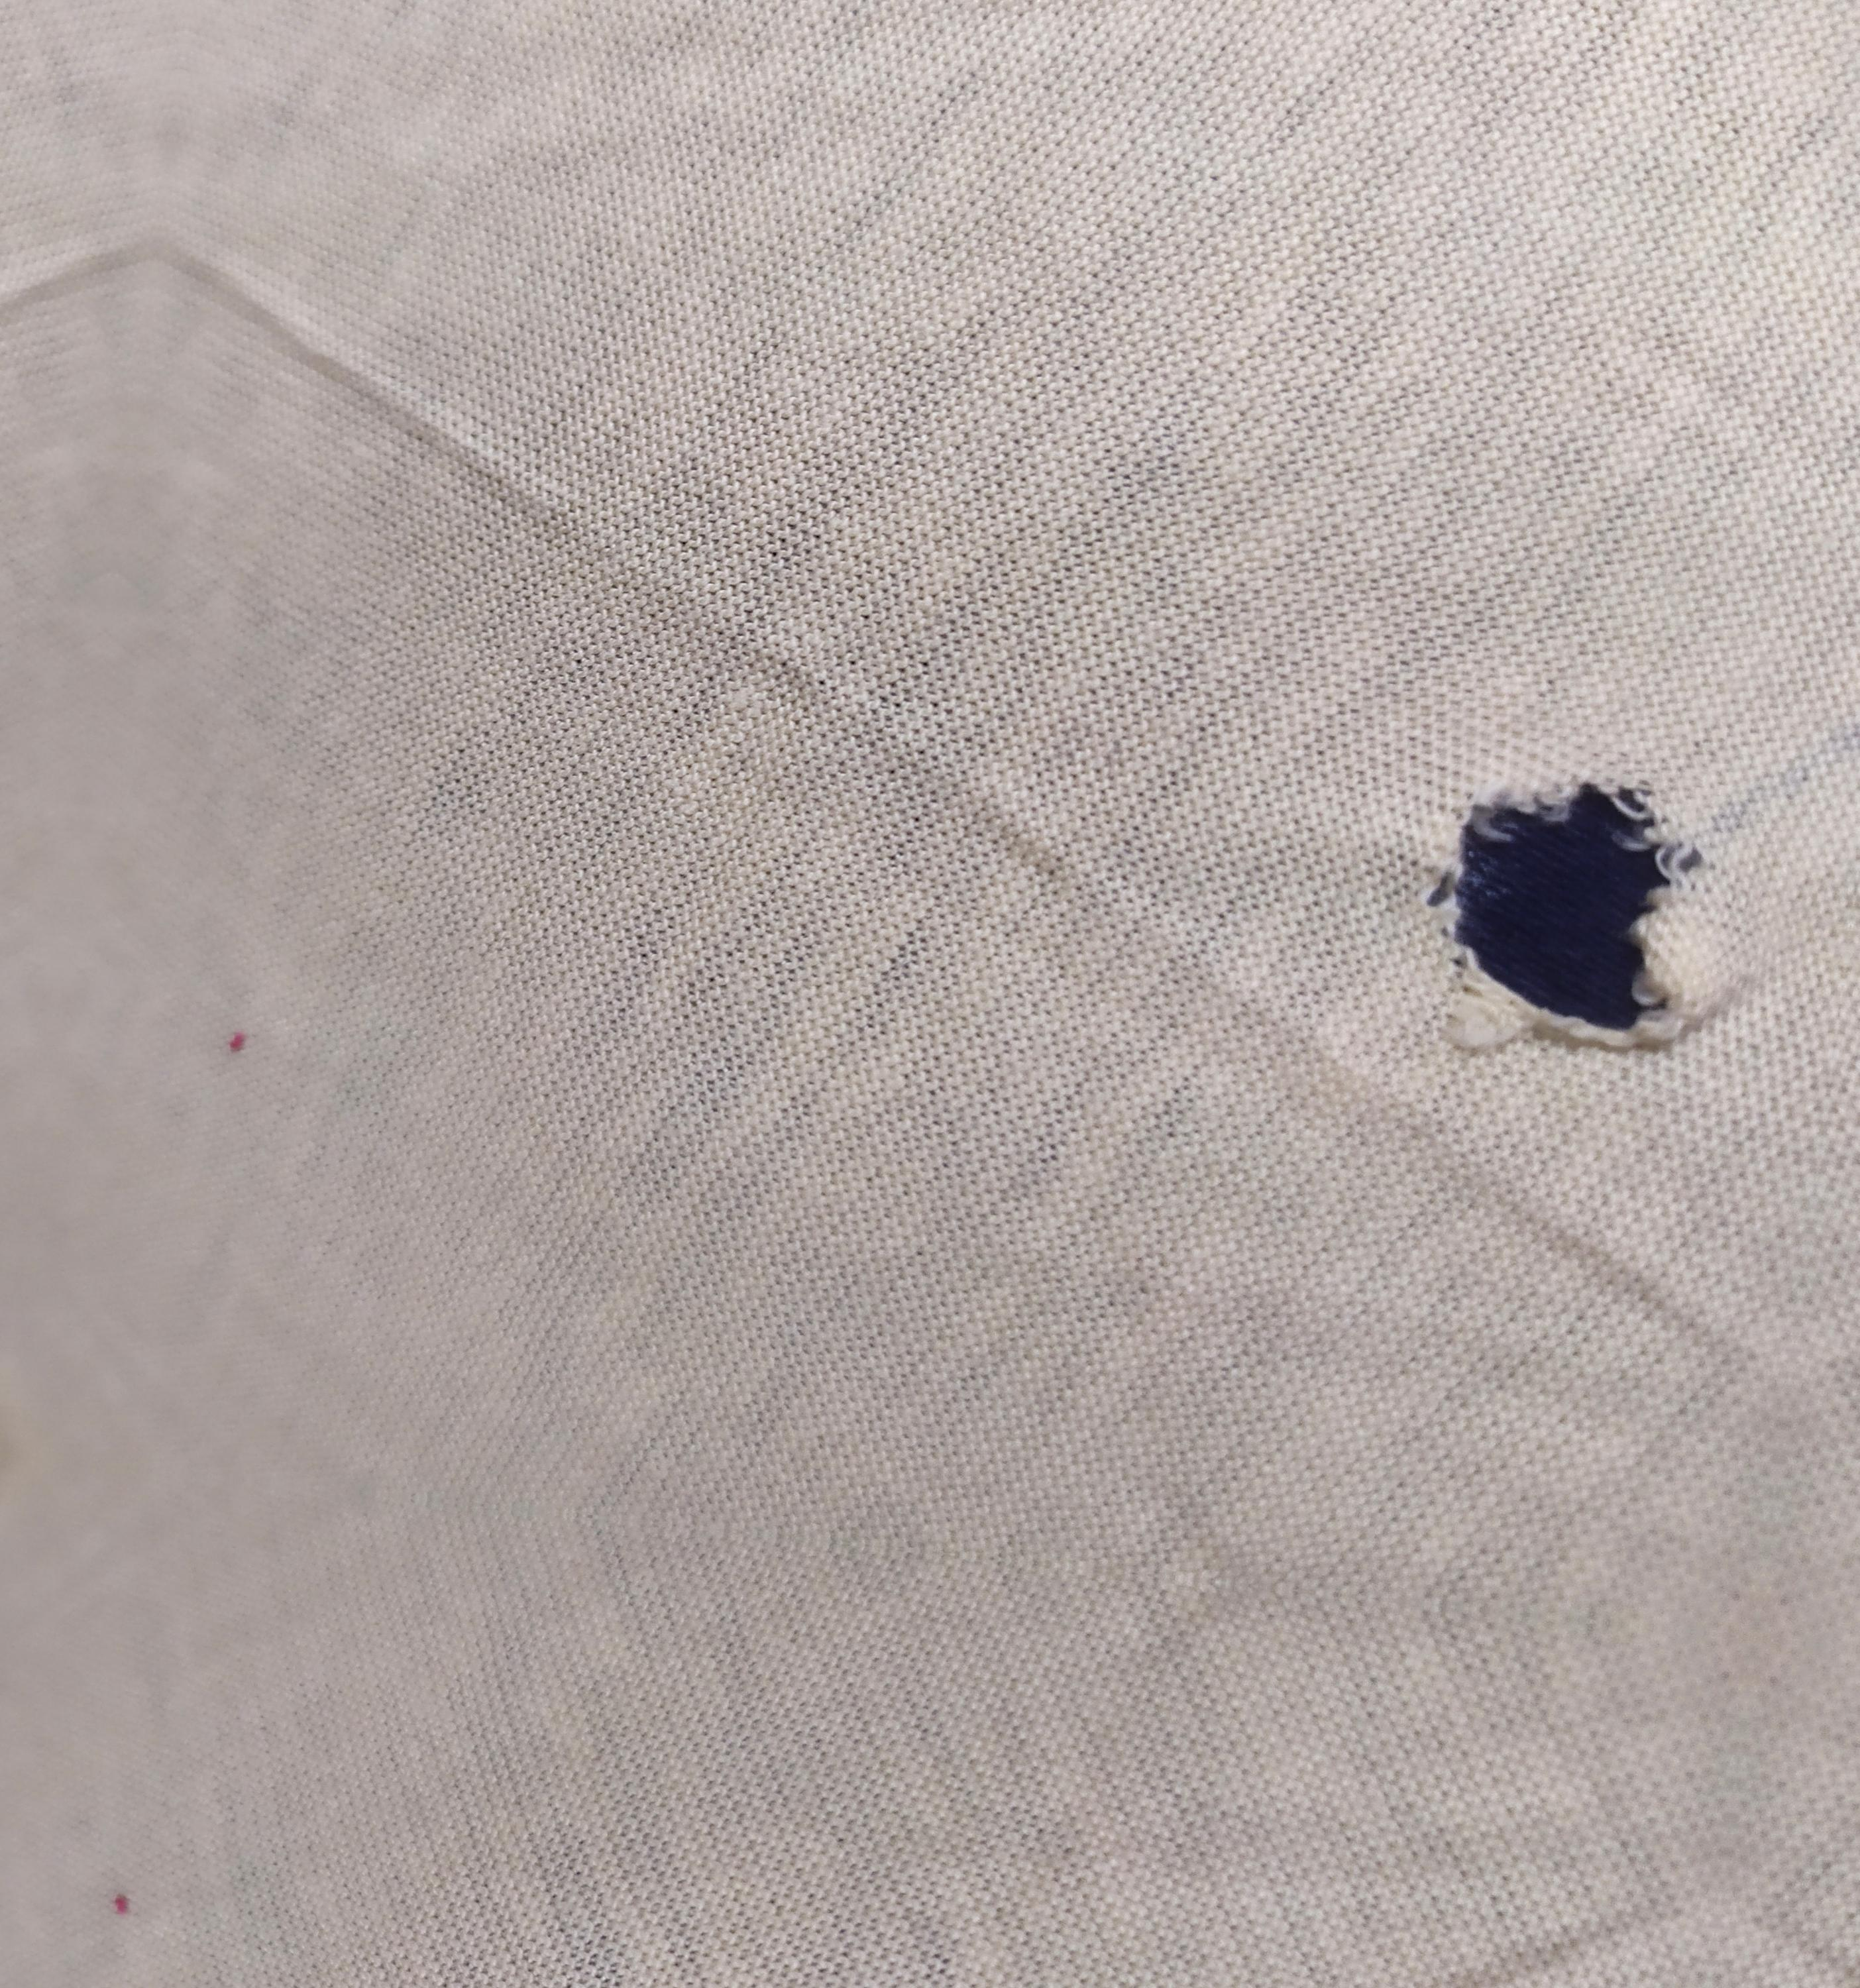hole: (1414, 747, 1739, 1068)
